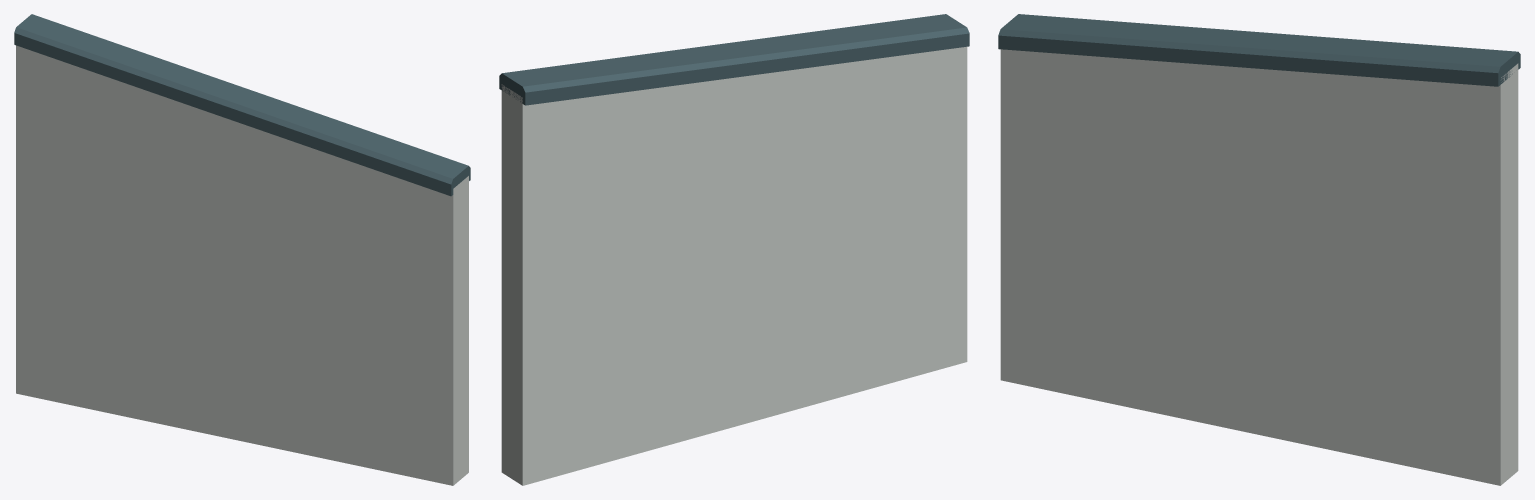
Rendered from halfwall_26_port_rise_1.glb.
The picture shows the model from 3 angles, left to right: view 1: azimuth 90°, elevation 25°; view 2: azimuth 150°, elevation 25°; view 3: azimuth 270°, elevation 25°; orthographic projection. The views are drawn at different scales.
Parts seen in each view (by area): view 1: Seamless solid halfwall.004, Seamless top cap.004; view 2: Seamless solid halfwall.004, Seamless top cap.004; view 3: Seamless solid halfwall.004, Seamless top cap.004.
Boxes of the visible parts, bbox=[...] form: Seamless solid halfwall.004: bbox=[16, 45, 468, 485]; Seamless top cap.004: bbox=[14, 14, 470, 196]; Seamless solid halfwall.004: bbox=[501, 46, 967, 485]; Seamless top cap.004: bbox=[499, 14, 969, 105]; Seamless solid halfwall.004: bbox=[1000, 49, 1518, 485]; Seamless top cap.004: bbox=[998, 14, 1520, 86].
Bounding box in the file's own units: 0.5894 × 0.925 × 1.04.
